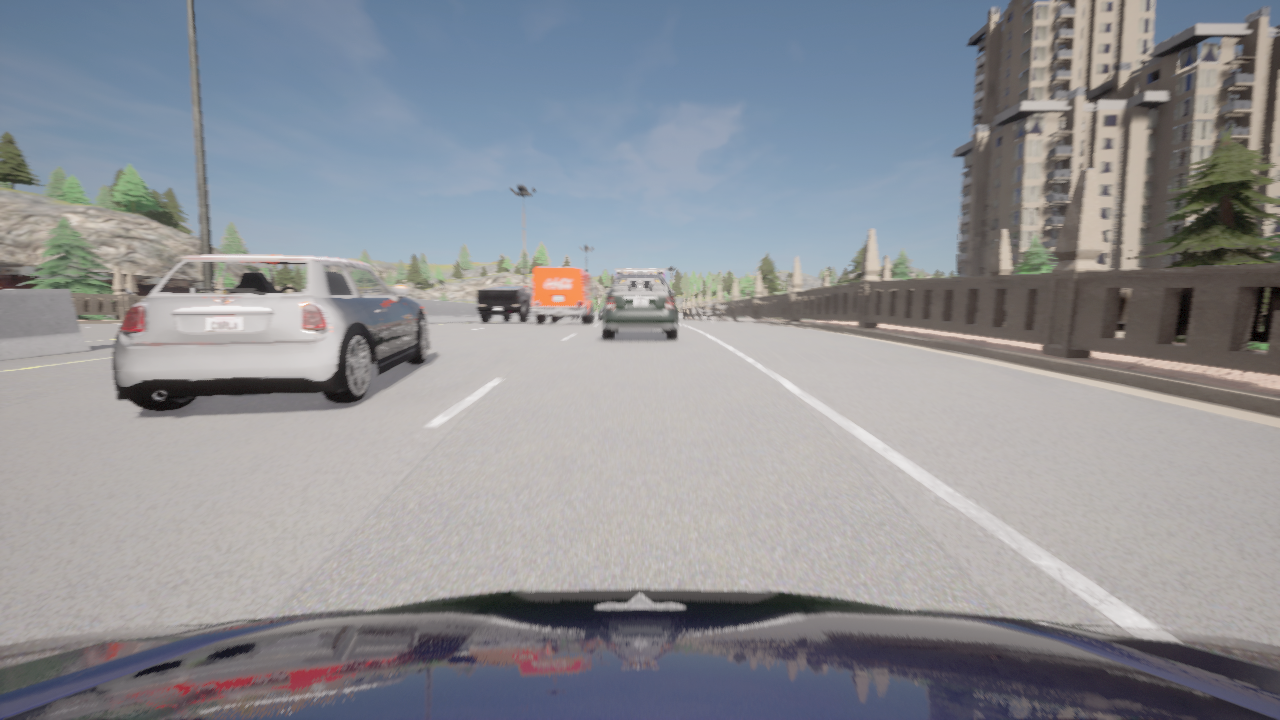cyclist: (0, 588, 1279, 719), (113, 255, 429, 411), (602, 273, 677, 339), (531, 267, 596, 323), (475, 285, 532, 322), (614, 269, 665, 279), (559, 316, 578, 320), (599, 307, 603, 319)
pedestrian: (126, 288, 132, 294)
